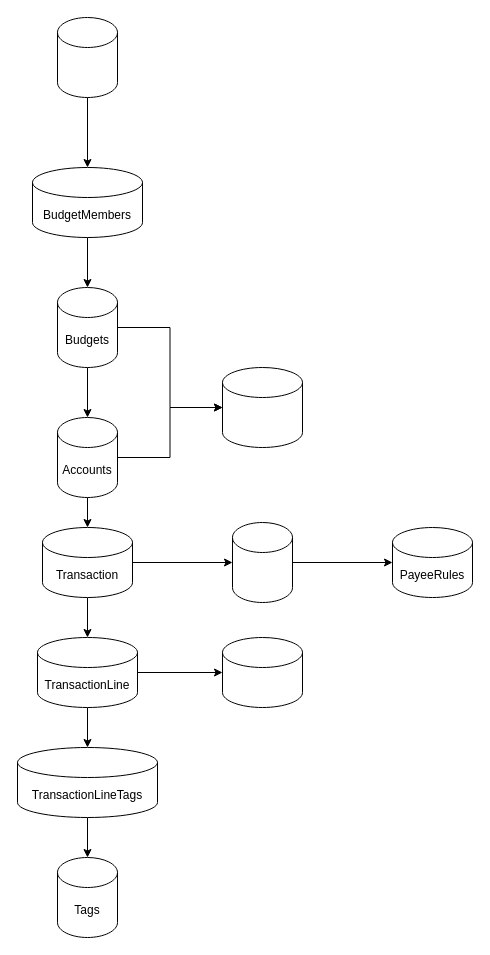
Some shapes in this 490 by 955 pixel diagram are drawn without their labels. The box of each missing label's shape, as (x1, y1, x2, y2) in pixels:
Categories: (222, 636, 302, 708)
Currencies: (222, 366, 302, 448)
Payees: (232, 522, 292, 602)
Users: (56, 16, 118, 98)
